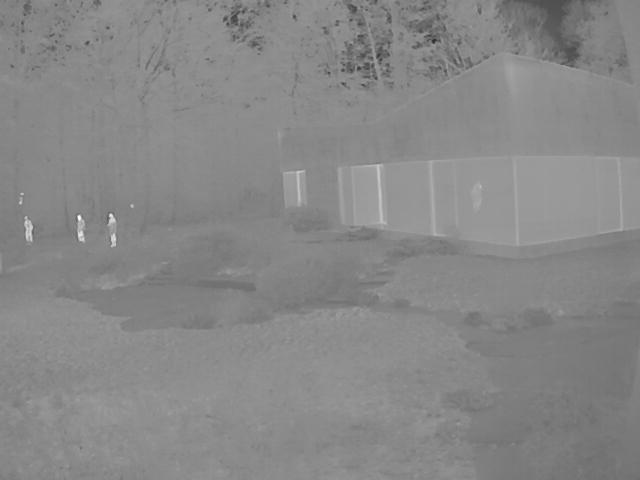person: (470, 180, 485, 209), (76, 213, 86, 243), (109, 212, 118, 245), (25, 215, 34, 243)
